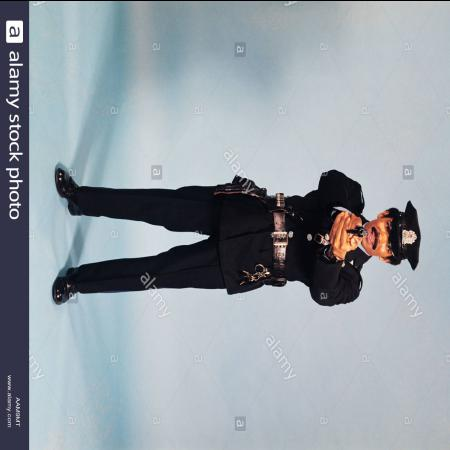Pistol: (346, 219, 372, 238)
